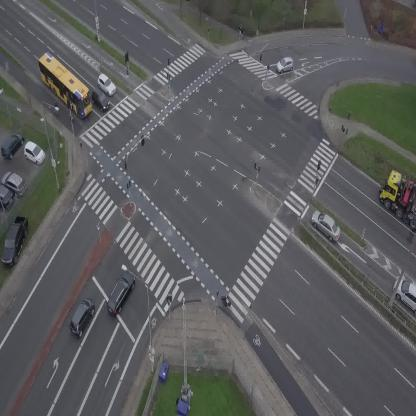bicycle: (218, 294, 234, 315), (236, 27, 247, 39), (53, 103, 60, 116)
bus: (30, 49, 101, 120)
car: (102, 268, 140, 318), (64, 295, 99, 339), (306, 207, 346, 244), (393, 279, 416, 315), (86, 87, 114, 114), (93, 72, 119, 98), (276, 56, 294, 73)
lorry: (379, 171, 416, 230)
